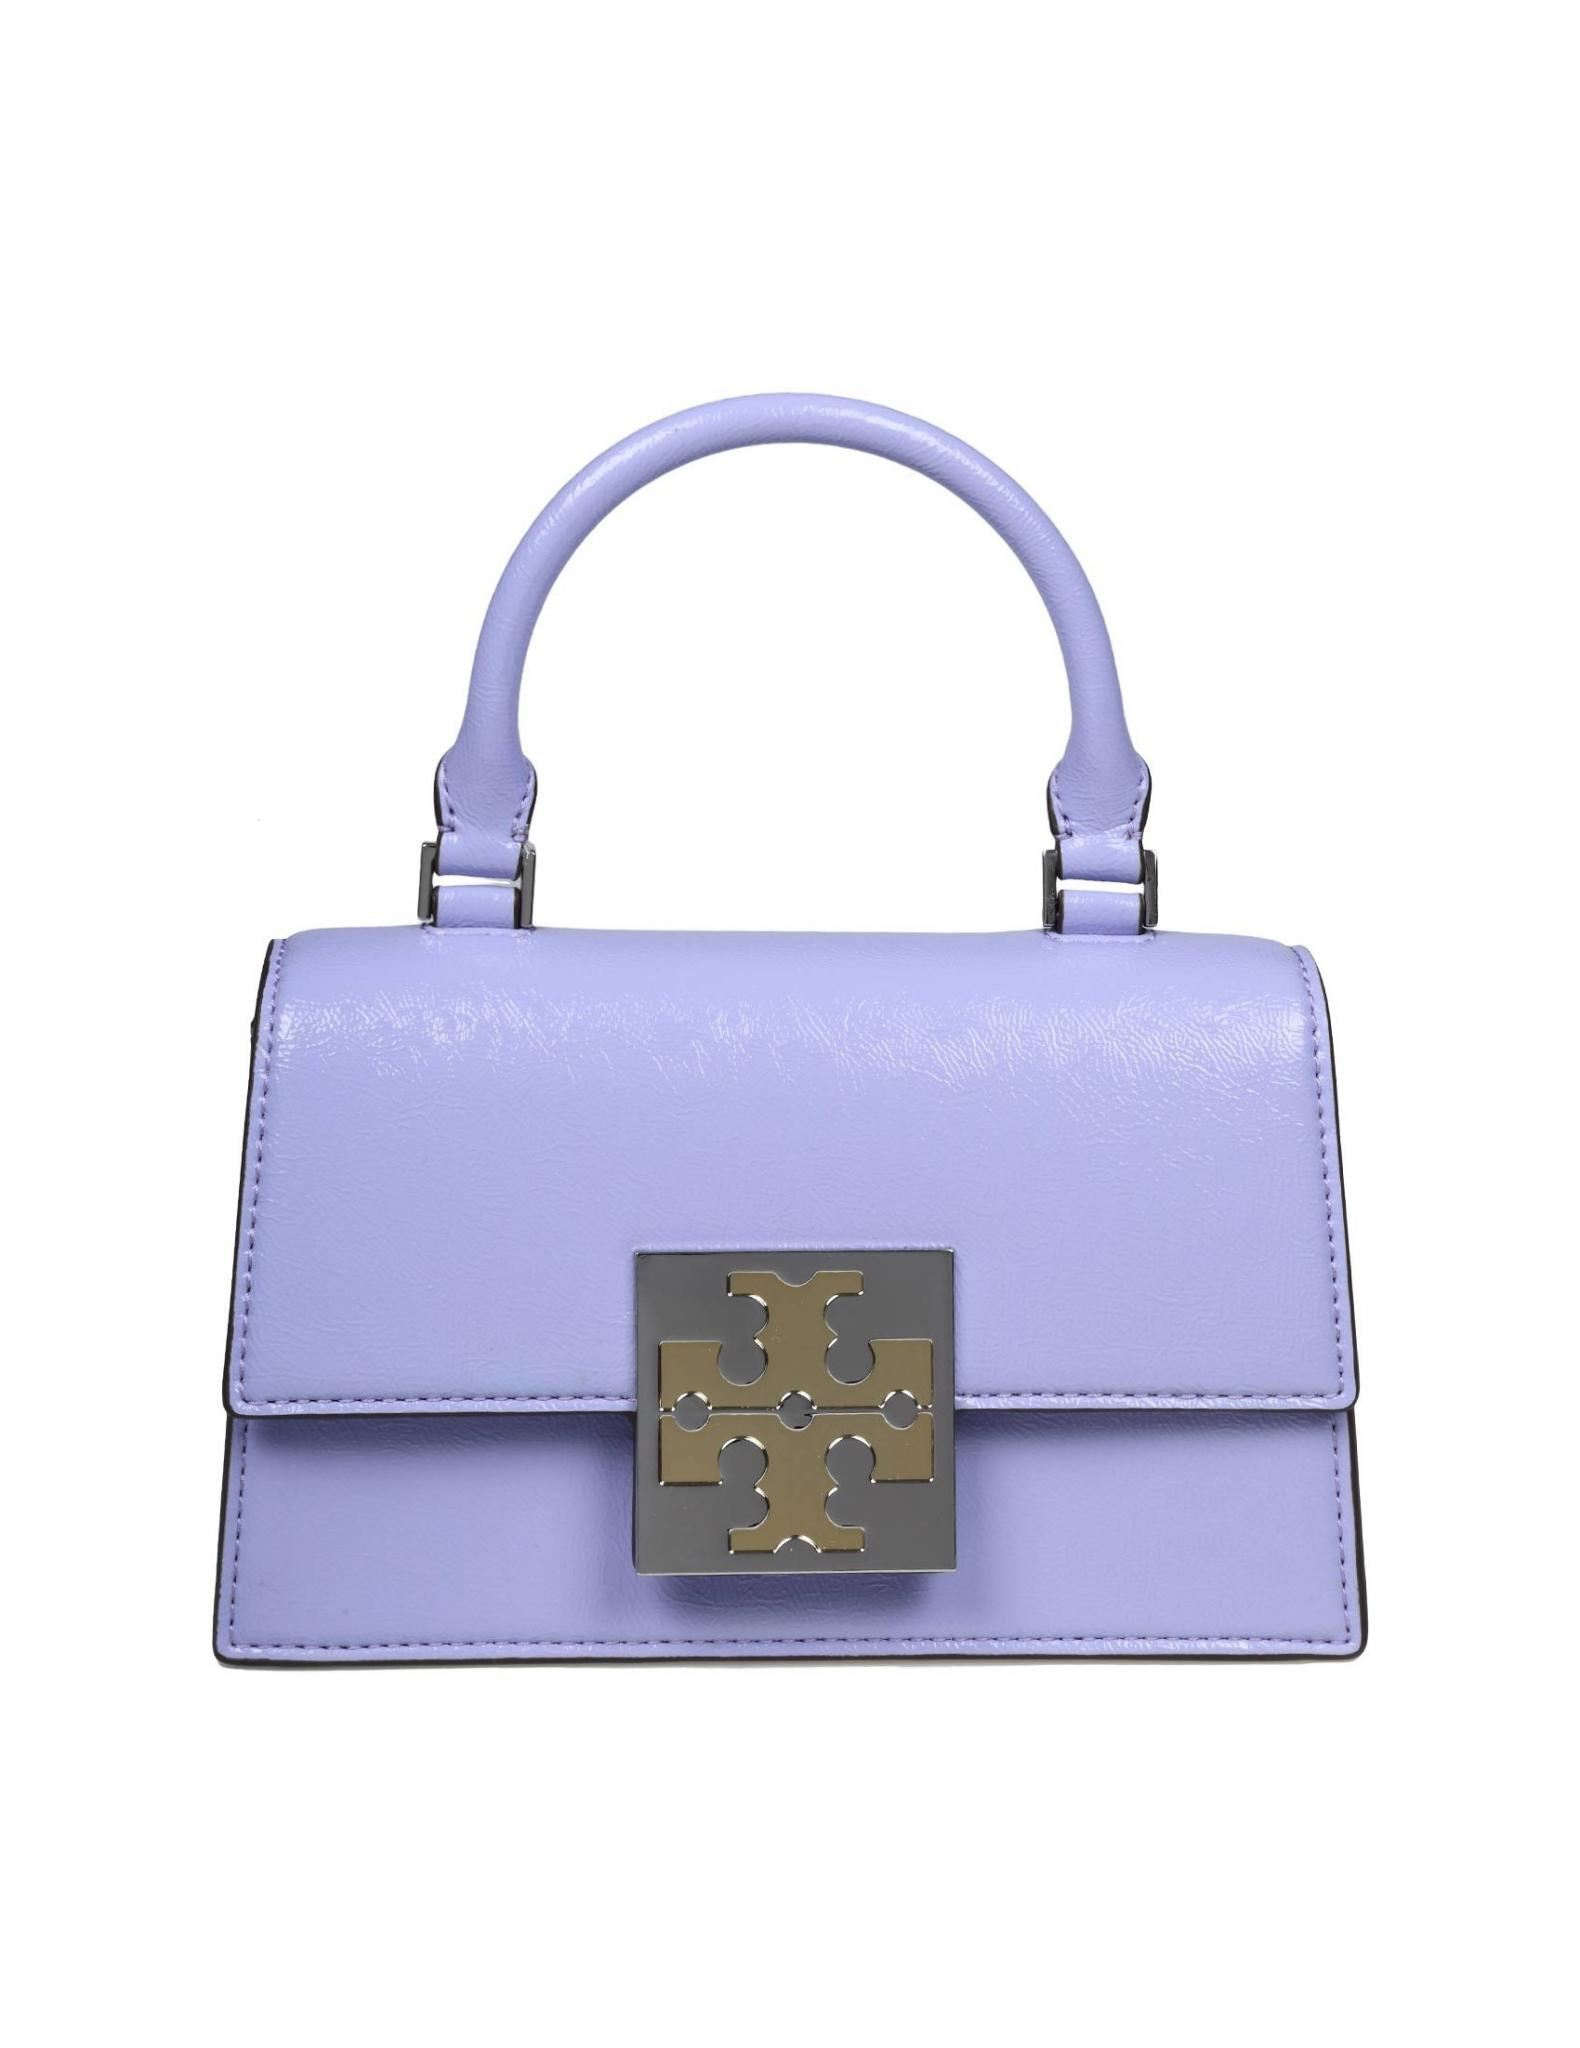TORY-BURCH: (657, 1270, 934, 1553)
